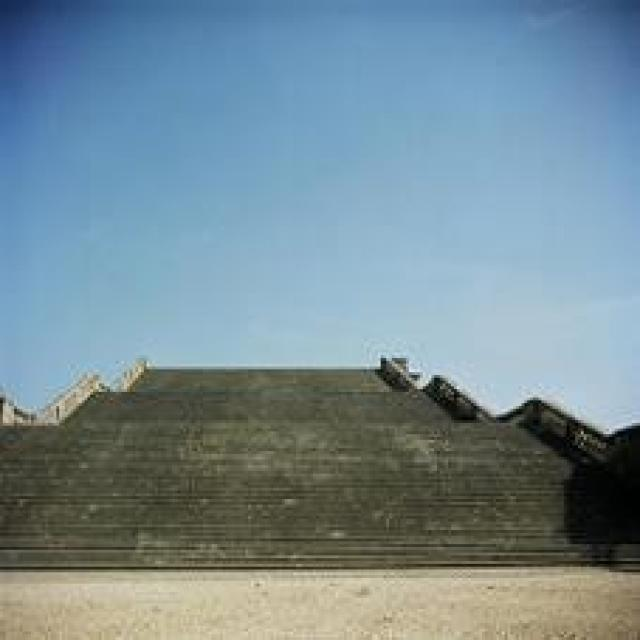upstair: (75, 387, 529, 559)
